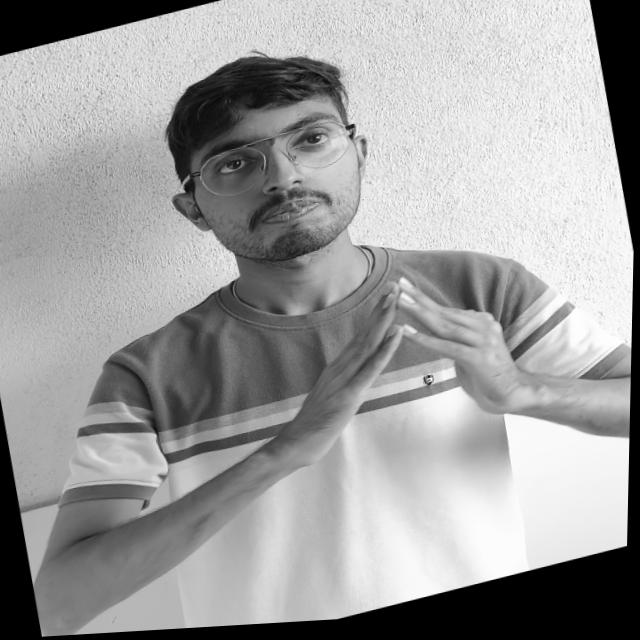Home: (229, 236, 622, 510)
